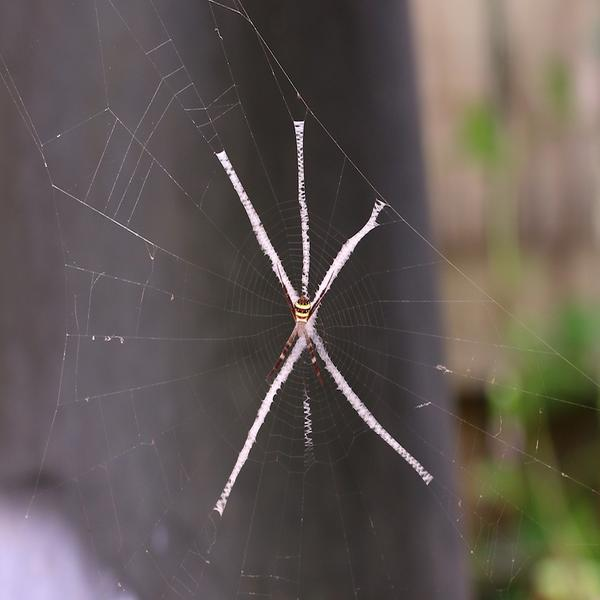St Andrew's Cross Spider: (266, 261, 334, 402)
